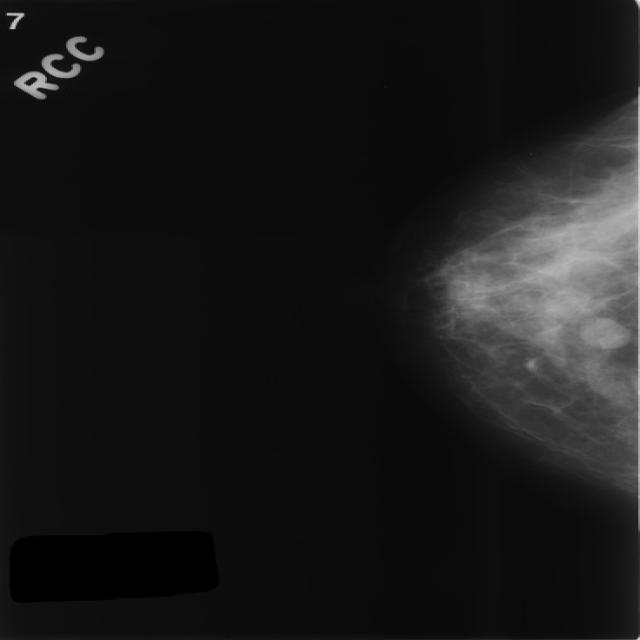tumour: (574, 315, 629, 348)
